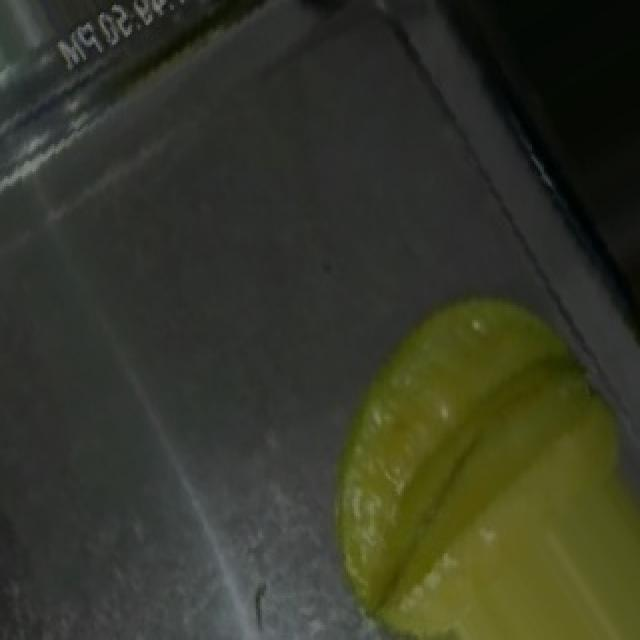fruit: (288, 240, 640, 640)
